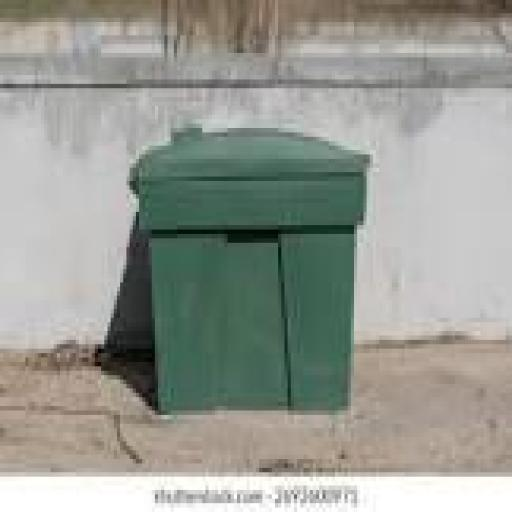poubelle_vide: (106, 108, 392, 450)
